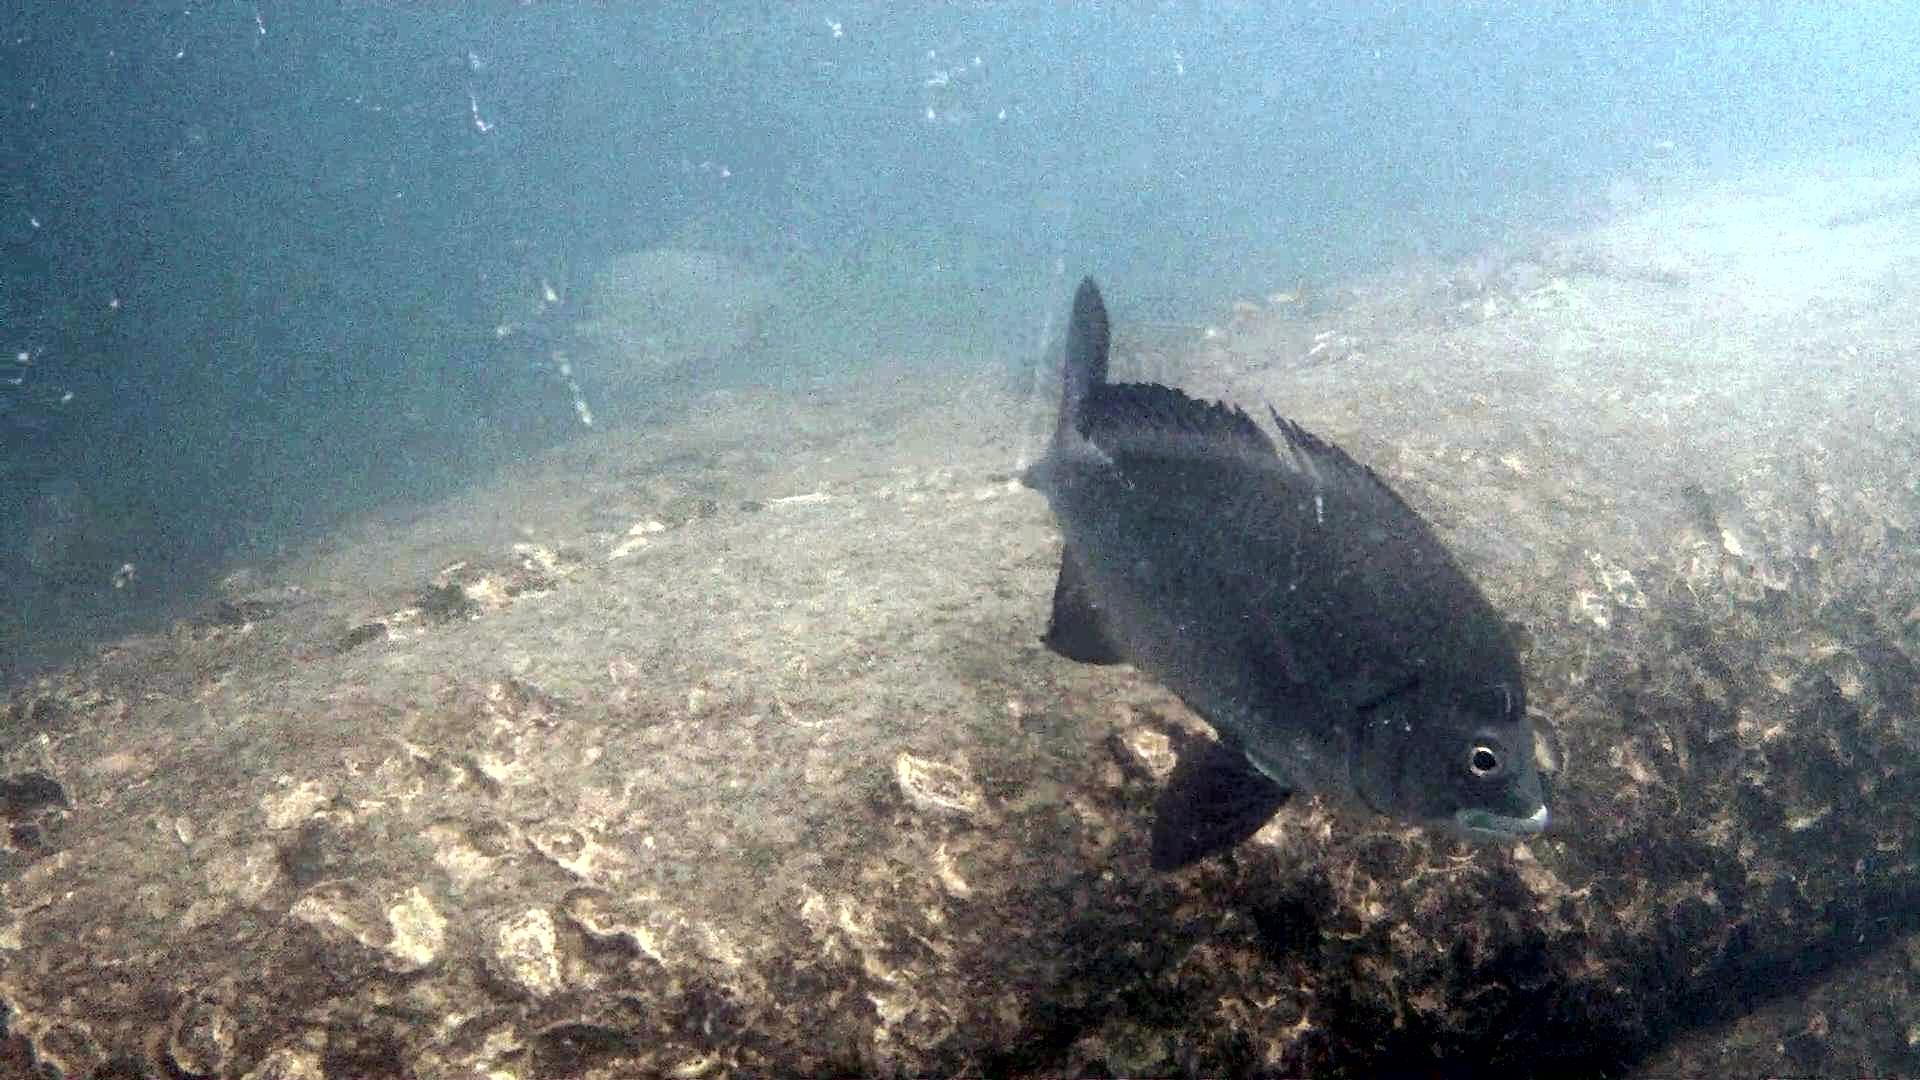acanthopagrus palmaris: (1001, 260, 1572, 880)
